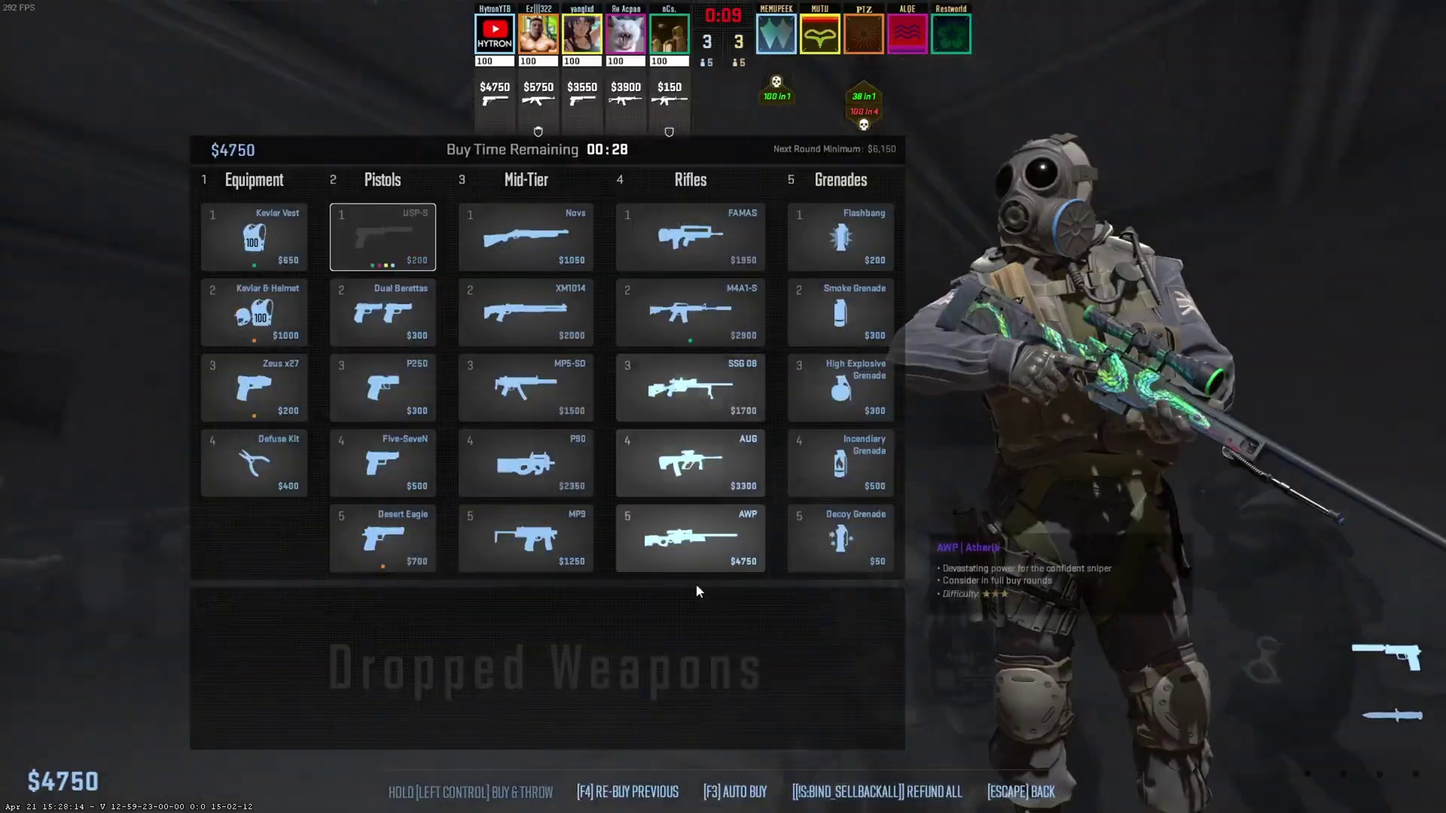CT: (965, 138, 1222, 811)
